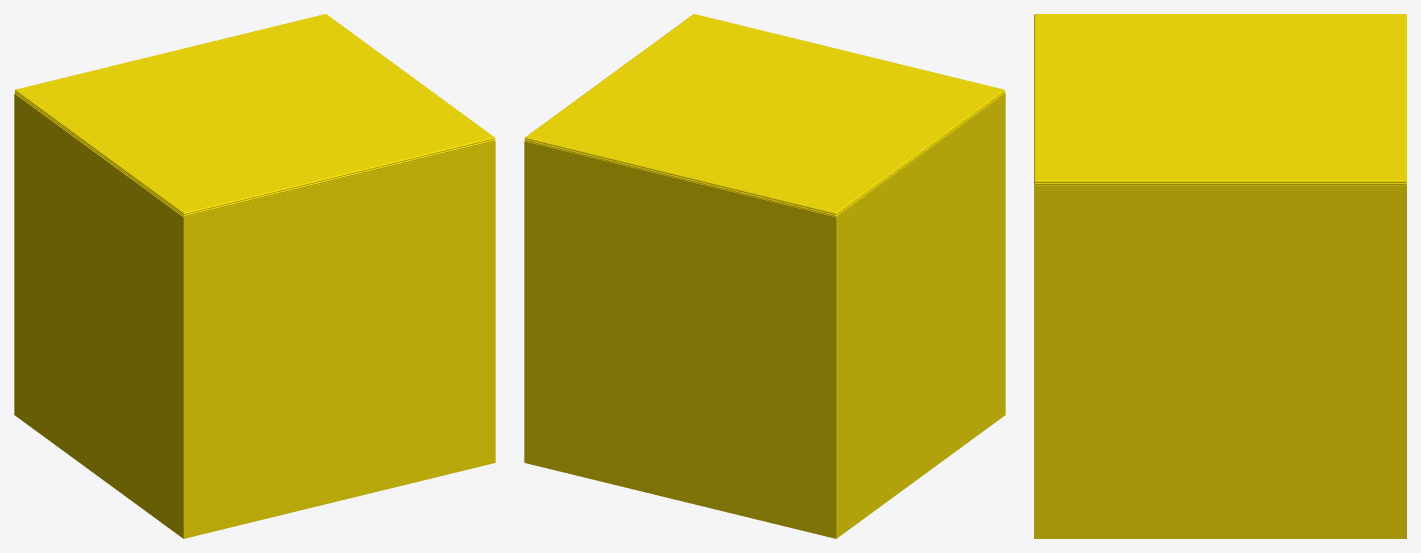
3 views of the same model, side by side, from view 1: azimuth 30°, elevation 25°; view 2: azimuth 150°, elevation 25°; view 3: azimuth 270°, elevation 25° (orthographic). The views are drawn at different scales.
Visible parts, largest first — view 1: box, box_flap_side_2, box_flap_side_1; view 2: box, box_flap_side_2, box_flap_side_1; view 3: box, box_flap_side_2, box_flap_side_1.
Part boxes in pixels (bbox=[...]): box: bbox=[14, 93, 495, 538]; box_flap_side_2: bbox=[15, 14, 495, 214]; box_flap_side_1: bbox=[15, 91, 495, 216]; box: bbox=[524, 93, 1005, 538]; box_flap_side_2: bbox=[524, 14, 1004, 214]; box_flap_side_1: bbox=[524, 91, 1004, 216]; box: bbox=[1034, 184, 1406, 538]; box_flap_side_2: bbox=[1034, 14, 1406, 182]; box_flap_side_1: bbox=[1034, 182, 1406, 184].
Size of the model in its own units: 34.03 by 33.9 by 32.
